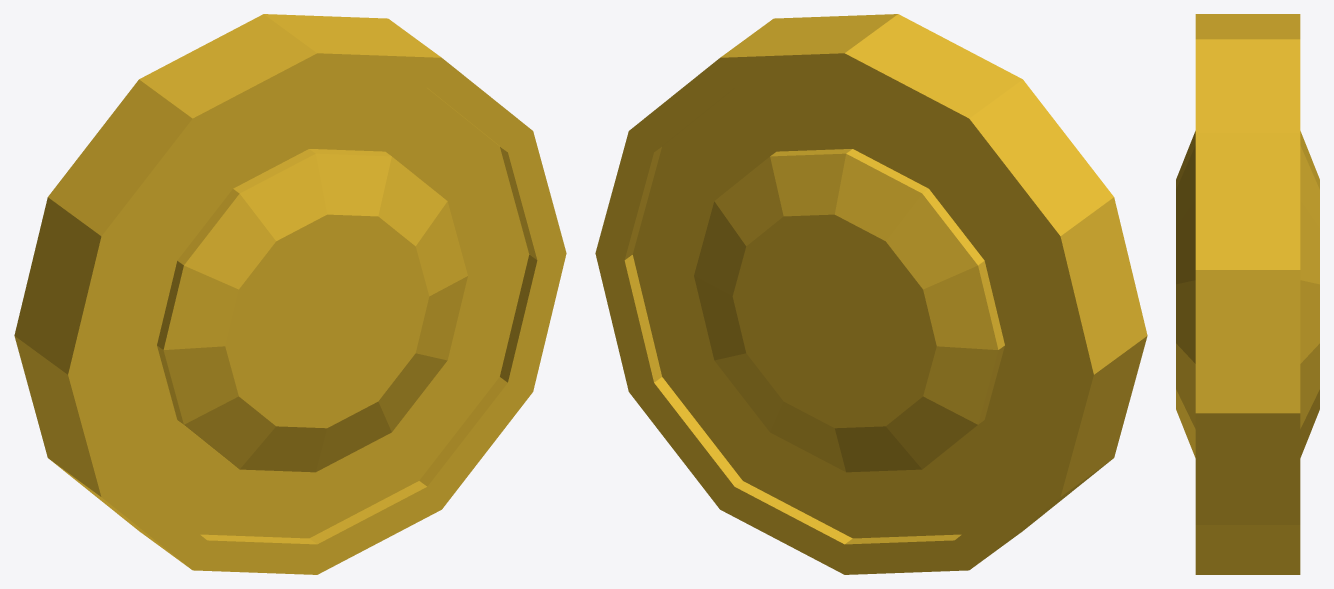
The model's file is coin.fbx.
The picture shows the model from 3 angles, left to right: view 1: azimuth 30°, elevation 25°; view 2: azimuth 150°, elevation 25°; view 3: azimuth 270°, elevation 25°; orthographic projection. The views are drawn at different scales.
Visible parts, largest first — view 1: Cylinder; view 2: Cylinder; view 3: Cylinder.
Boxes of the visible parts, box(x1,y1,x2,y2) form: Cylinder: box(14, 14, 566, 574); Cylinder: box(595, 14, 1147, 574); Cylinder: box(1176, 14, 1319, 574).
Bounding box in the file's own units: 200 × 200 × 51.13.
